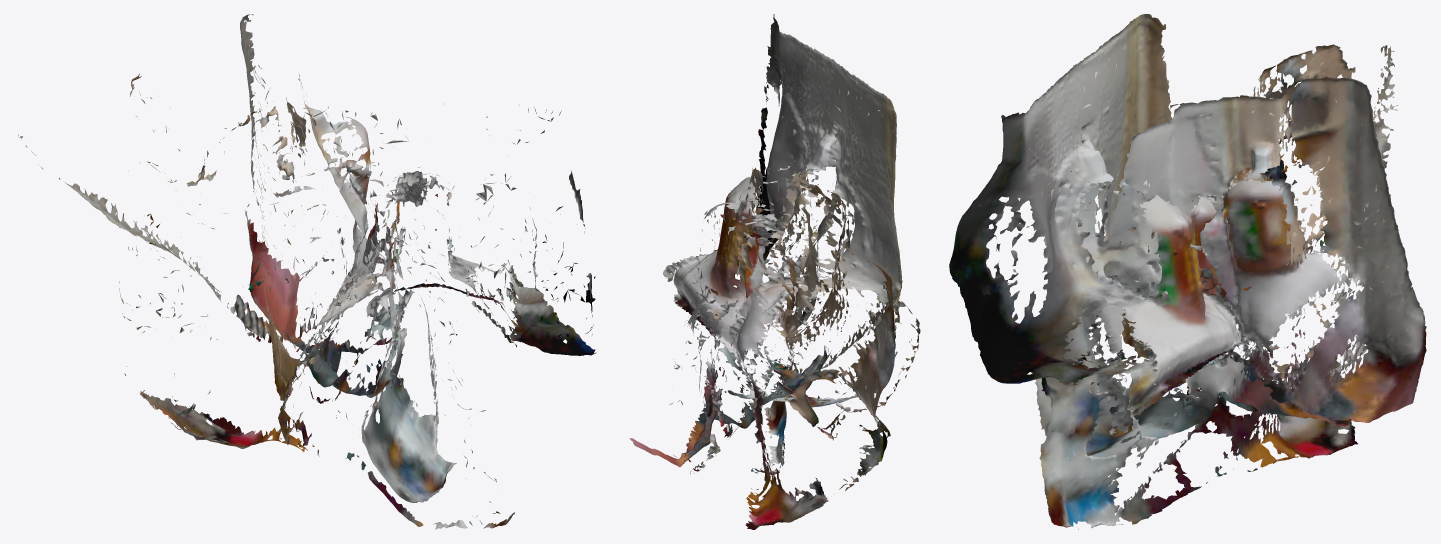
Rendered from scan_20261001_165218_38535.glb.
3 views of the same model, side by side, from view 1: azimuth 30°, elevation 25°; view 2: azimuth 150°, elevation 25°; view 3: azimuth 270°, elevation 25° (orthographic). The views are drawn at different scales.
Parts seen in each view (by area): view 1: MobileScan3D_scan; view 2: MobileScan3D_scan; view 3: MobileScan3D_scan.
Part boxes in pixels (left/top/right/bottom): MobileScan3D_scan: left=18, top=14, right=596, bottom=529; MobileScan3D_scan: left=629, top=14, right=920, bottom=529; MobileScan3D_scan: left=949, top=14, right=1426, bottom=529.
Size of the model in its own units: 0.9574 by 1.1 by 1.07.
